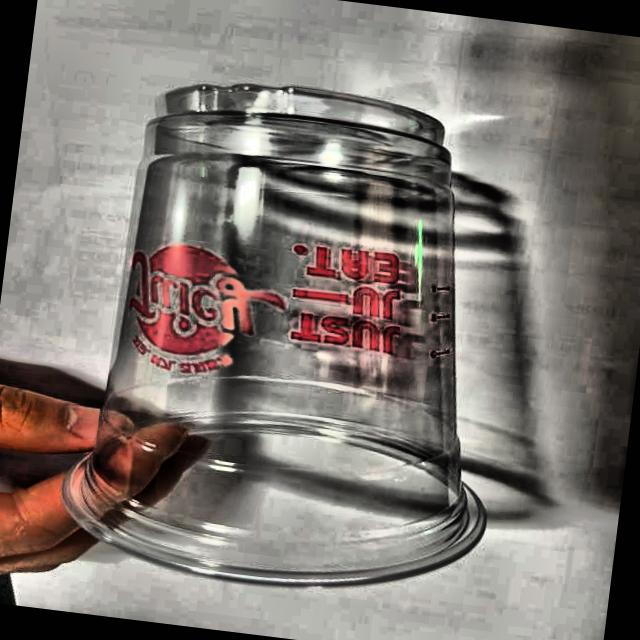plastic cup: (47, 60, 542, 615)
